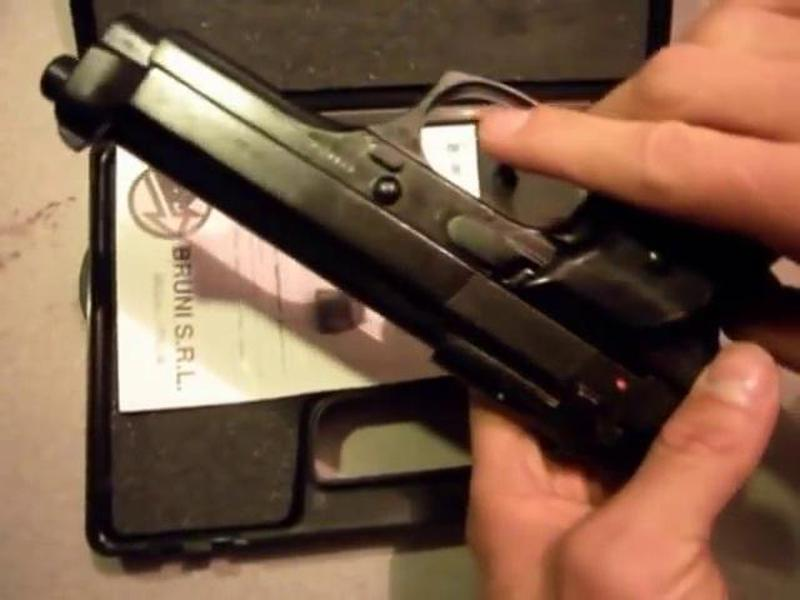Pistola: (57, 14, 800, 438)
